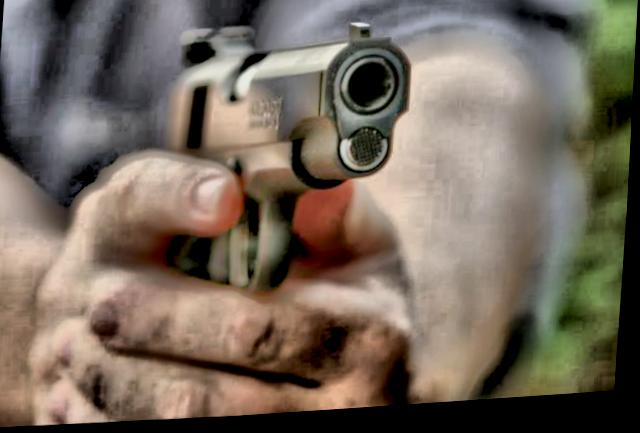pistol: (155, 10, 422, 314)
